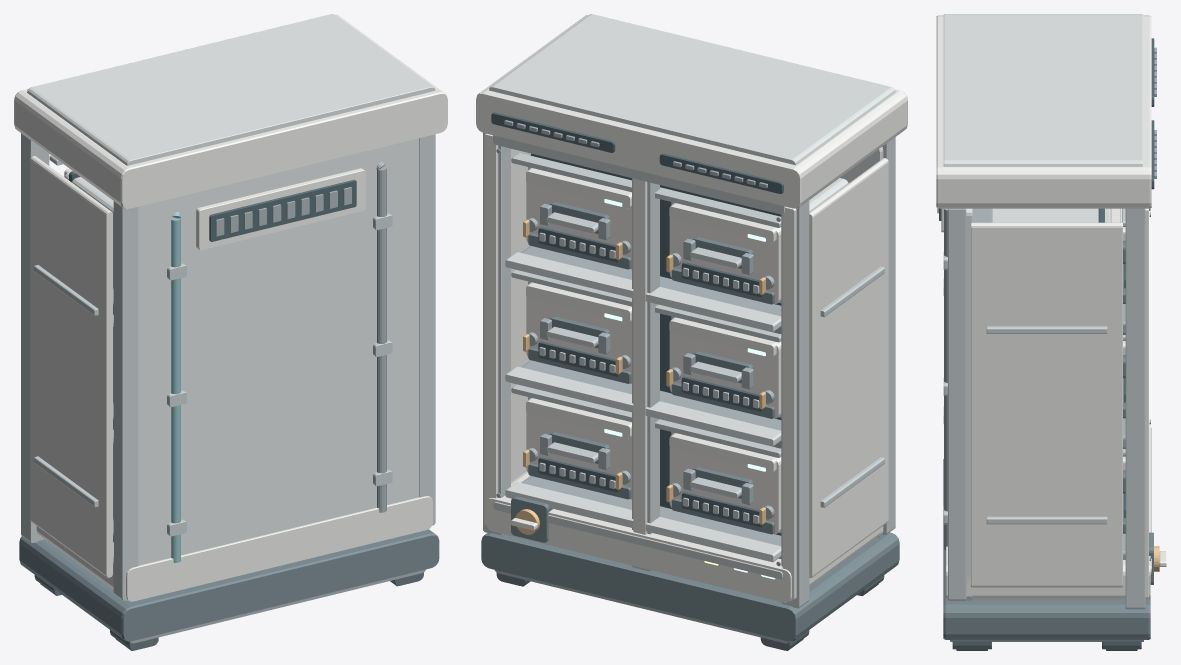
File: battery_bank_martian_hailmary.glb
3 renders of one model, left to right at view 1: azimuth 30°, elevation 25°; view 2: azimuth 150°, elevation 25°; view 3: azimuth 270°, elevation 25°, orthographic.
Visible parts, largest first — view 1: Chassis_and_Static_Details__lightgrey, Chassis_and_Static_Details__white, Chassis_and_Static_Details__aluminium, Chassis_and_Static_Details__dark, Chassis_and_Static_Details__steel, Chassis_and_Static_Details__teal, Chassis_and_Static_Details__shadow, Chassis_and_Static_Details__rubber; view 2: Chassis_and_Static_Details__white, Chassis_and_Static_Details__lightgrey, Chassis_and_Static_Details__aluminium, Chassis_and_Static_Details__dark, Chassis_and_Static_Details__warmwhite, Chassis_and_Static_Details__steel, Chassis_and_Static_Details__shadow, Battery_Cassette_R1_L__warmwhite, Battery_Cassette_R1_L__white, Battery_Cassette_R1_L__dark, Chassis_and_Static_Details__orange, Battery_Cassette_R1_L__aluminium (+3 smaller); view 3: Chassis_and_Static_Details__white, Chassis_and_Static_Details__lightgrey, Chassis_and_Static_Details__aluminium, Chassis_and_Static_Details__dark, Chassis_and_Static_Details__steel, Chassis_and_Static_Details__shadow, Chassis_and_Static_Details__rubber.
Boxes of the visible parts, bbox=[...] form: Chassis_and_Static_Details__lightgrey: bbox=[27, 14, 435, 601]; Chassis_and_Static_Details__white: bbox=[14, 14, 447, 601]; Chassis_and_Static_Details__aluminium: bbox=[21, 133, 435, 600]; Chassis_and_Static_Details__dark: bbox=[19, 529, 439, 641]; Chassis_and_Static_Details__steel: bbox=[113, 162, 425, 643]; Chassis_and_Static_Details__teal: bbox=[171, 212, 180, 562]; Chassis_and_Static_Details__shadow: bbox=[40, 171, 398, 650]; Chassis_and_Static_Details__rubber: bbox=[34, 572, 423, 650]; Chassis_and_Static_Details__white: bbox=[476, 15, 907, 602]; Chassis_and_Static_Details__lightgrey: bbox=[489, 14, 895, 562]; Chassis_and_Static_Details__aluminium: bbox=[483, 133, 895, 608]; Chassis_and_Static_Details__dark: bbox=[481, 202, 899, 641]; Chassis_and_Static_Details__warmwhite: bbox=[526, 168, 781, 498]; Chassis_and_Static_Details__steel: bbox=[494, 120, 789, 643]; Chassis_and_Static_Details__shadow: bbox=[491, 112, 878, 650]; Battery_Cassette_R1_L__warmwhite: bbox=[669, 433, 781, 533]; Battery_Cassette_R1_L__white: bbox=[669, 433, 776, 473]; Battery_Cassette_R1_L__dark: bbox=[672, 467, 774, 534]; Chassis_and_Static_Details__orange: bbox=[523, 219, 765, 489]; Battery_Cassette_R1_L__aluminium: bbox=[682, 477, 759, 523]; Chassis_and_Static_Details__white: bbox=[936, 15, 1151, 599]; Chassis_and_Static_Details__lightgrey: bbox=[943, 14, 1142, 600]; Chassis_and_Static_Details__aluminium: bbox=[943, 208, 1151, 609]; Chassis_and_Static_Details__dark: bbox=[943, 242, 1153, 639]; Chassis_and_Static_Details__steel: bbox=[937, 47, 1156, 641]; Chassis_and_Static_Details__shadow: bbox=[939, 38, 1154, 650]; Chassis_and_Static_Details__rubber: bbox=[952, 641, 1141, 649].
Bounding box in the file's own units: 1.45 × 2.08 × 0.878.
